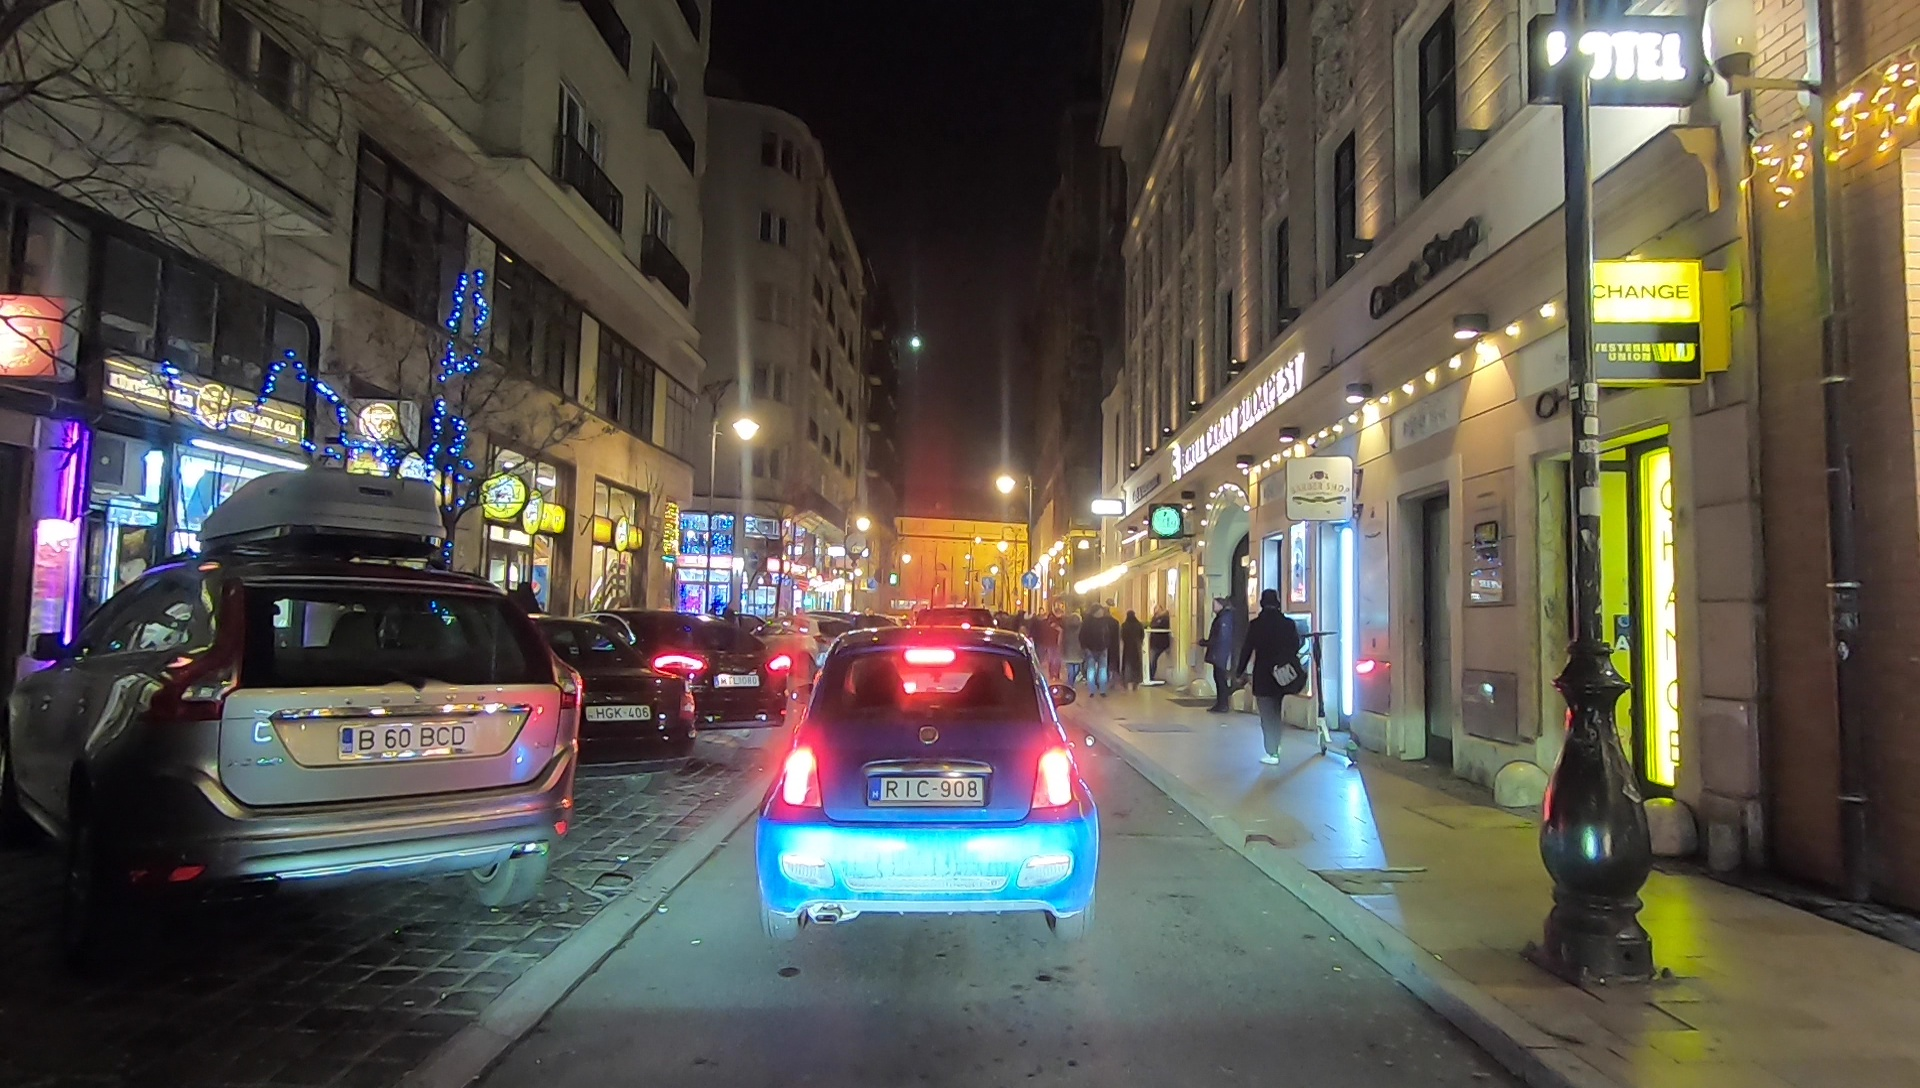person: (1246, 587, 1300, 765), (1199, 598, 1234, 717), (1083, 606, 1111, 699), (1063, 602, 1083, 693), (1121, 613, 1144, 689), (1045, 604, 1065, 680), (1150, 605, 1171, 677), (1032, 608, 1046, 669)
